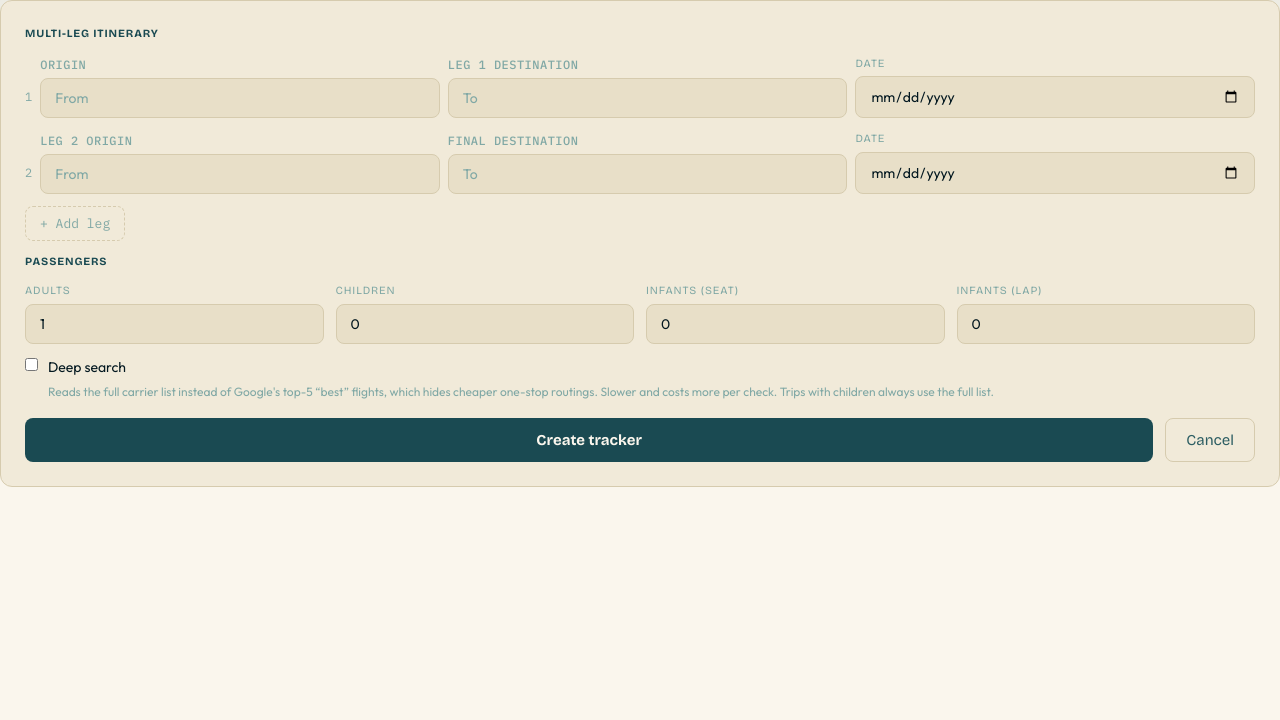
it: MultiLegEntryForm › adds up to 6 legs and disables further additions past the max
This screenshot has width=1280, height=720.
Click the button "+ Add leg".
click(75, 223)  # box [25,206,125,241]
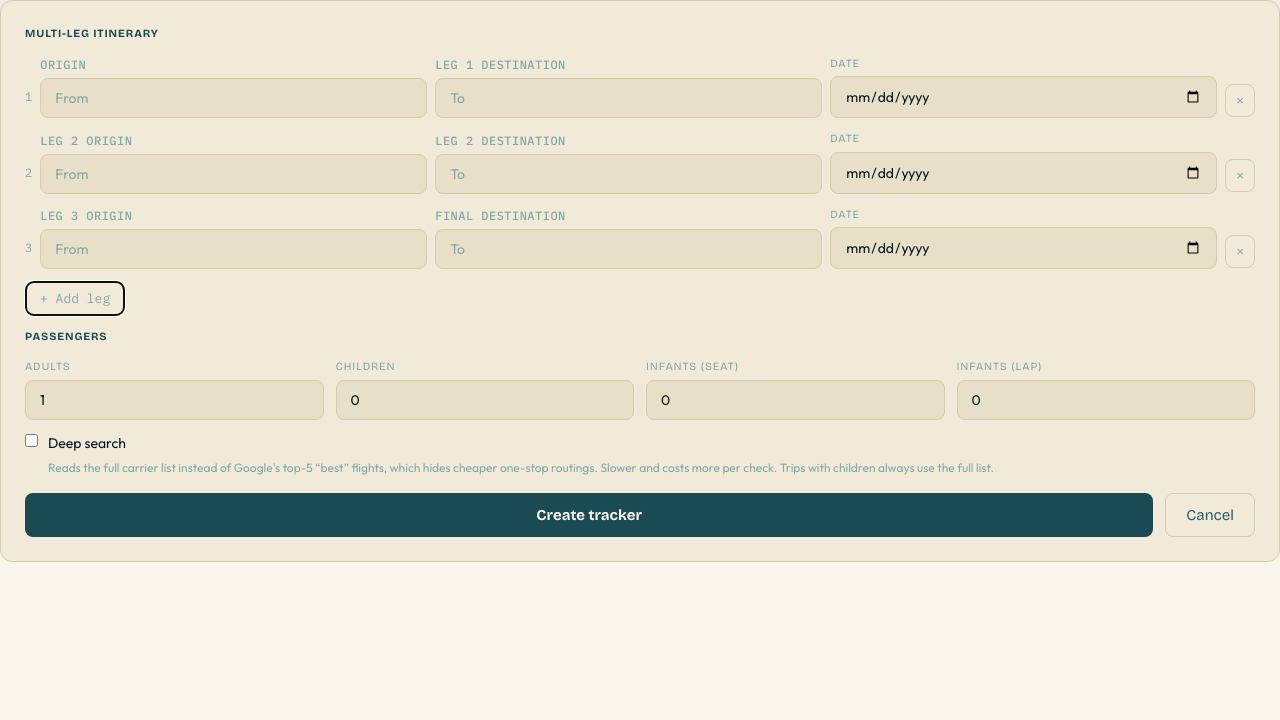
Click the button "+ Add leg".
click(75, 299)  # box [25,281,125,316]
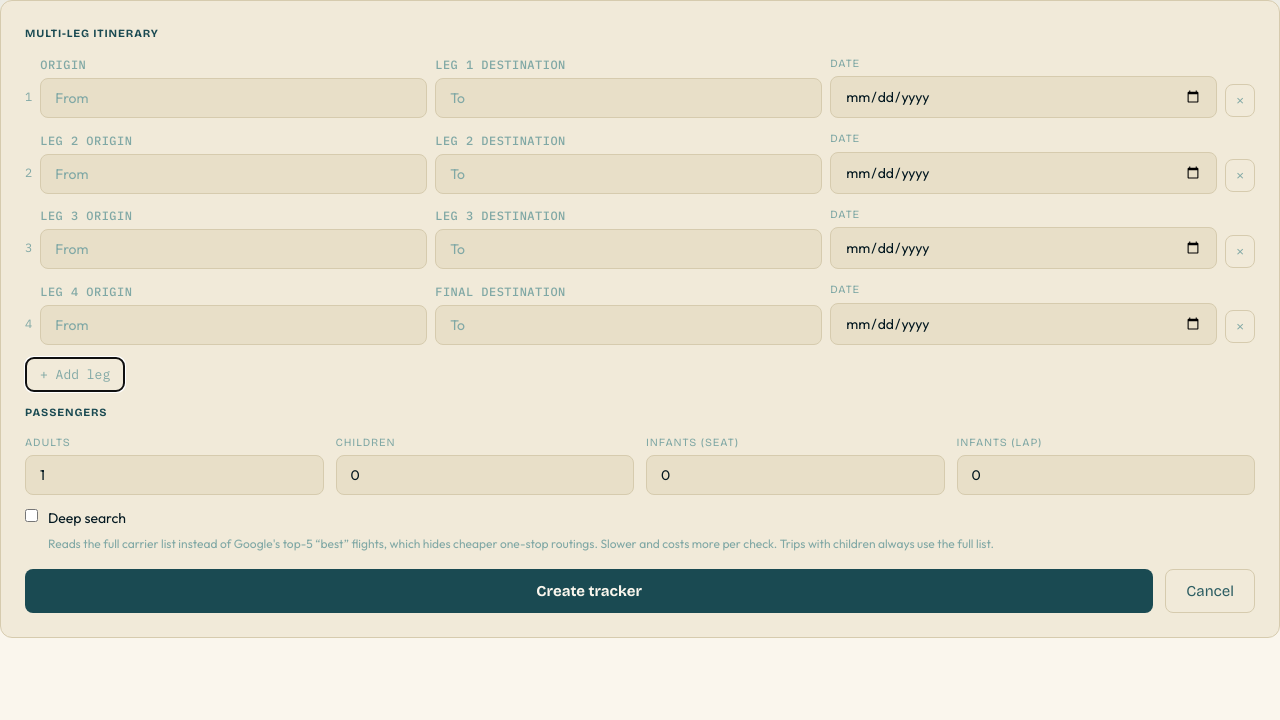
Click the button "+ Add leg".
click(75, 374)  # box [25,357,125,392]
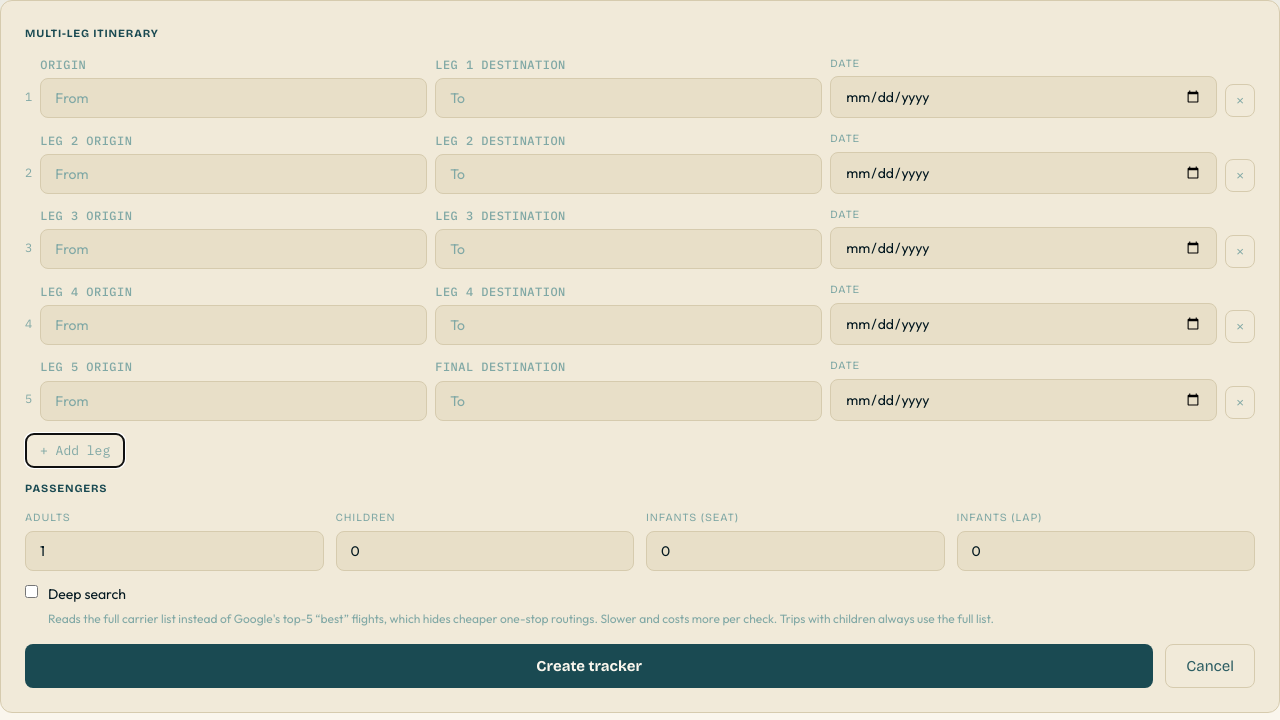
Click the button "+ Add leg".
click(75, 450)  # box [25,433,125,468]
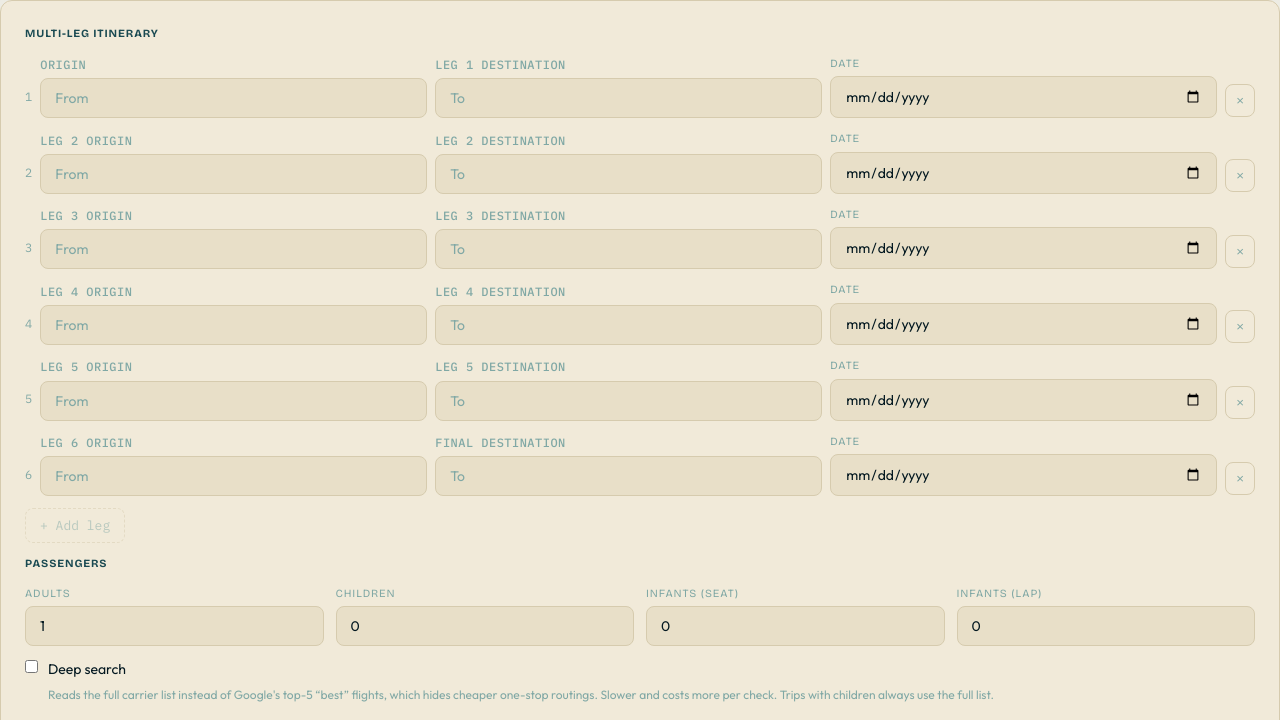
Check: the element with test id "leg-5" is shown, box [25,433,1255,496]
Check: the button "+ Add leg" is disabled, box [25,508,125,543]
